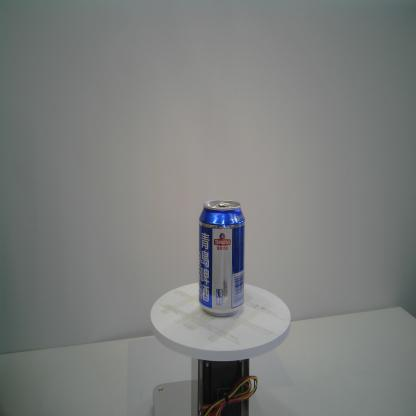Alcohol: (198, 199, 246, 318)
